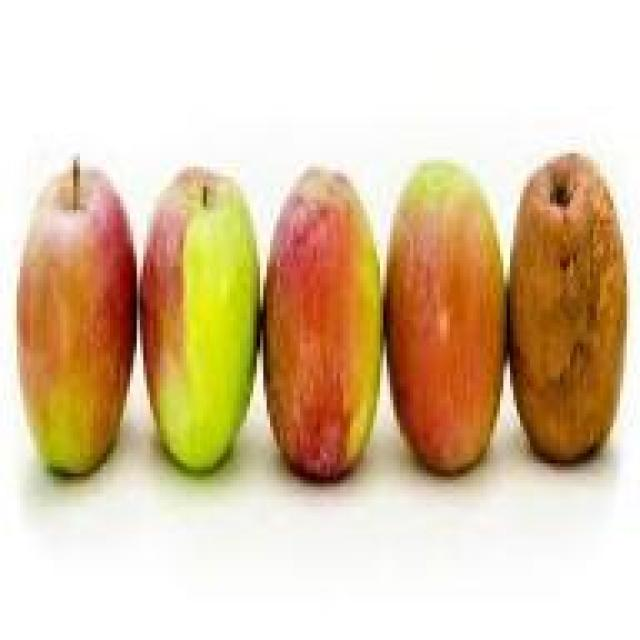apple: (263, 164, 380, 484), (13, 154, 130, 464), (513, 160, 630, 470), (393, 164, 507, 474), (147, 177, 253, 493)
